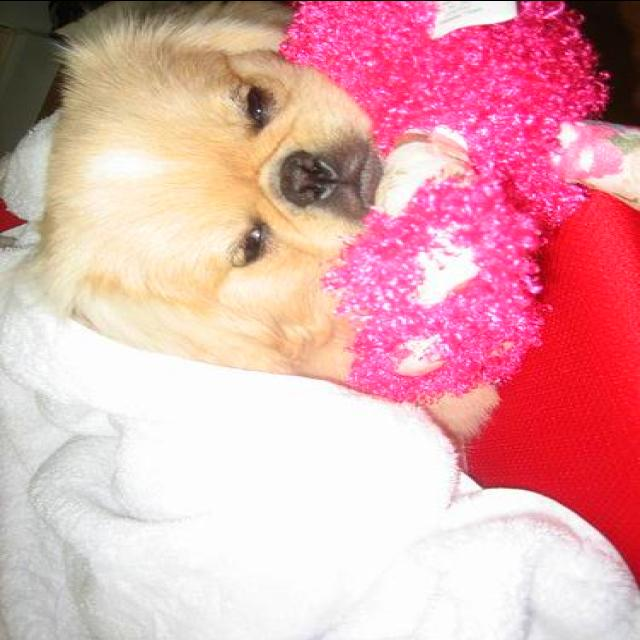pekinese: (9, 3, 502, 435)
